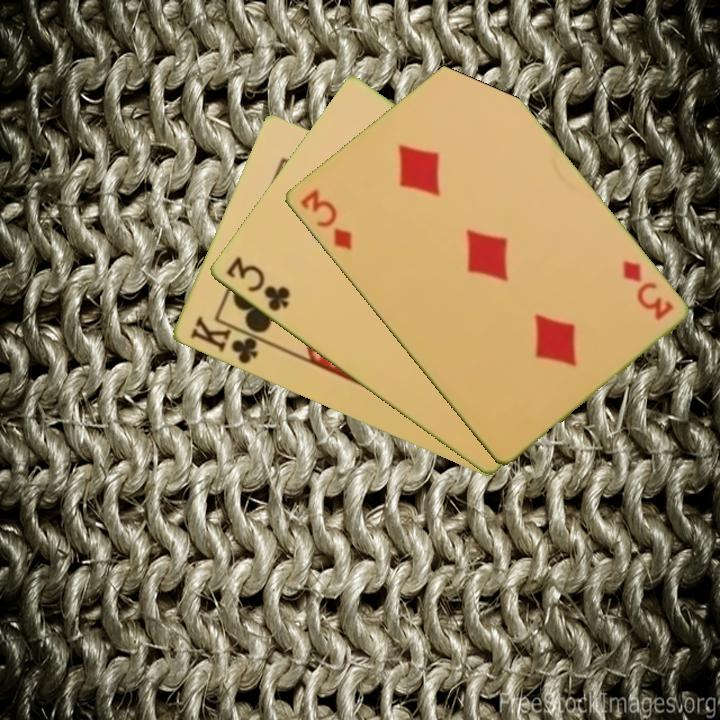3c: (222, 253, 293, 315)
3d: (296, 185, 355, 253), (618, 257, 676, 323)
Kc: (186, 312, 269, 368)
